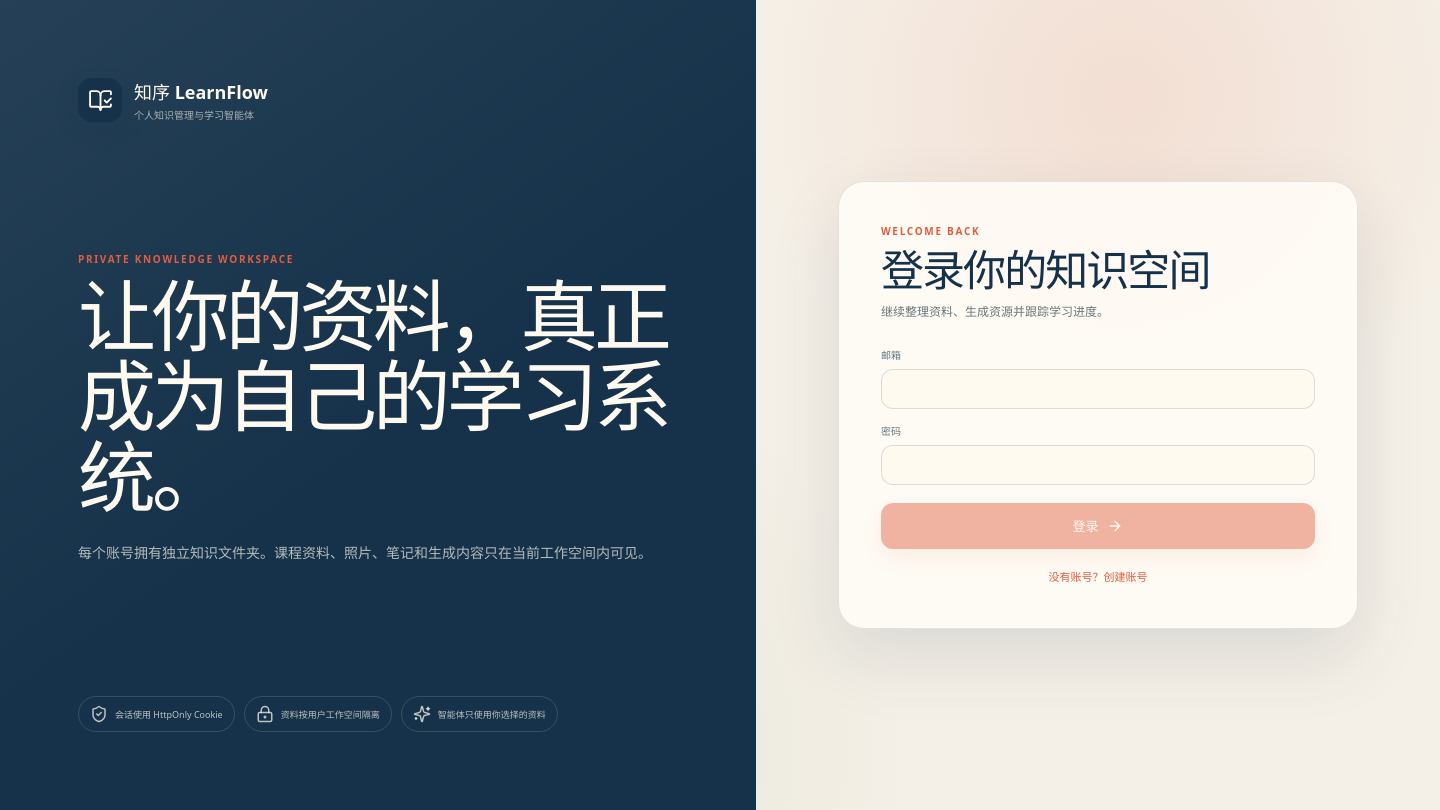
Test: login failure remains on the form with a safe error message
Type "student@example.com" into the field labelled "邮箱". click: coordinates (1098, 389)
box: [881, 369, 1315, 409]
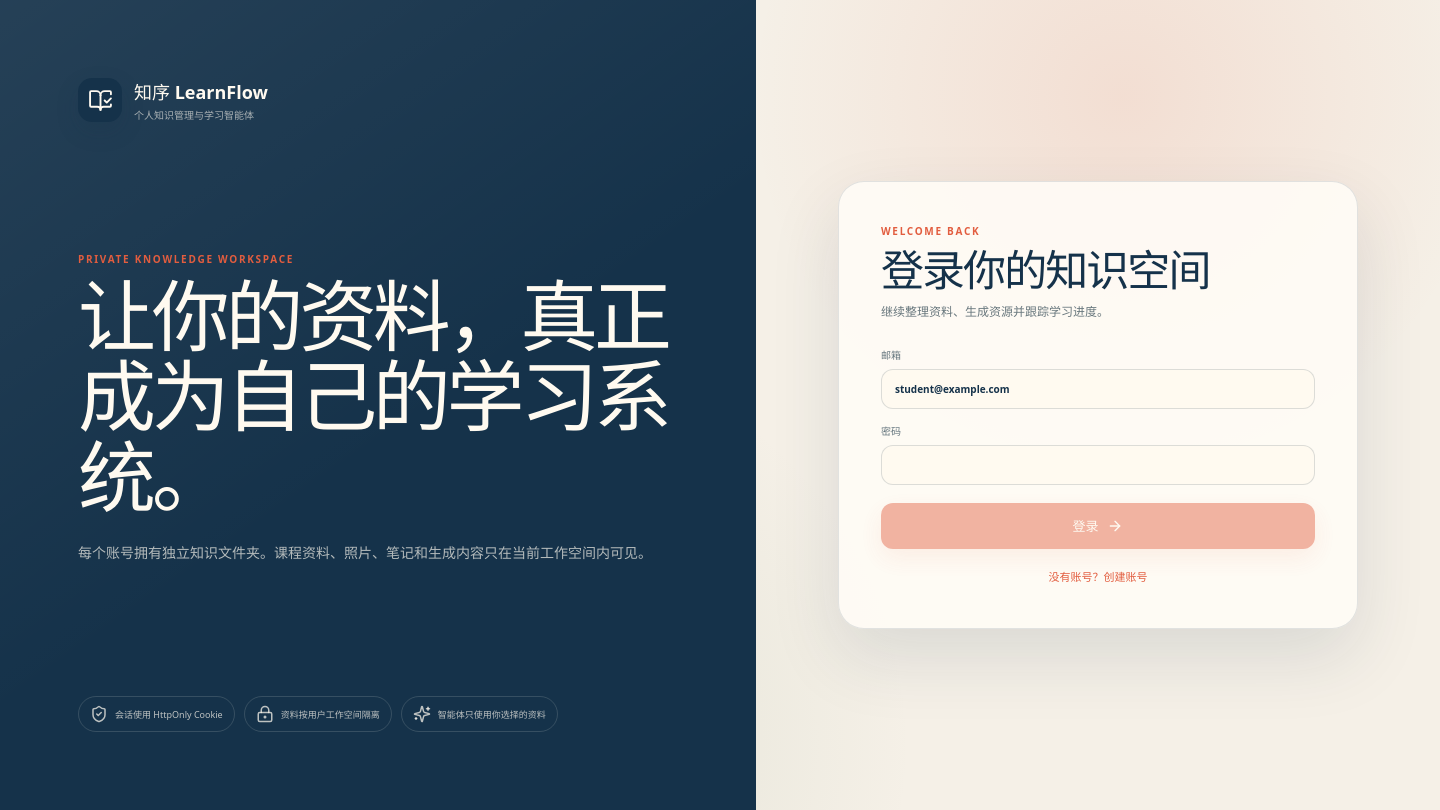
Type "WrongPass123" into the password field labelled "密码". click: coordinates (1098, 465)
box: [881, 445, 1315, 485]
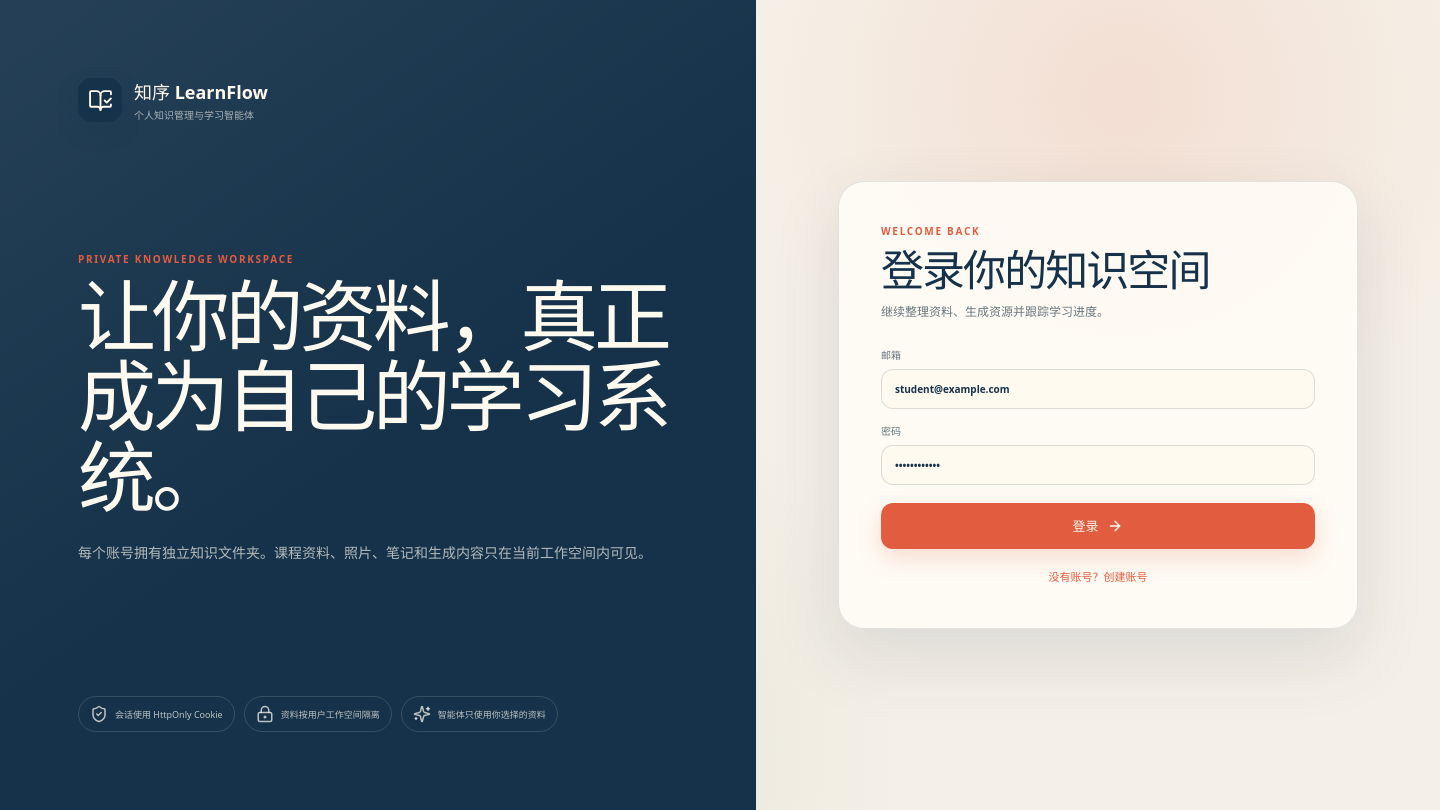
Click the button "登录". click: coordinates (1098, 526)
box: [881, 503, 1315, 549]
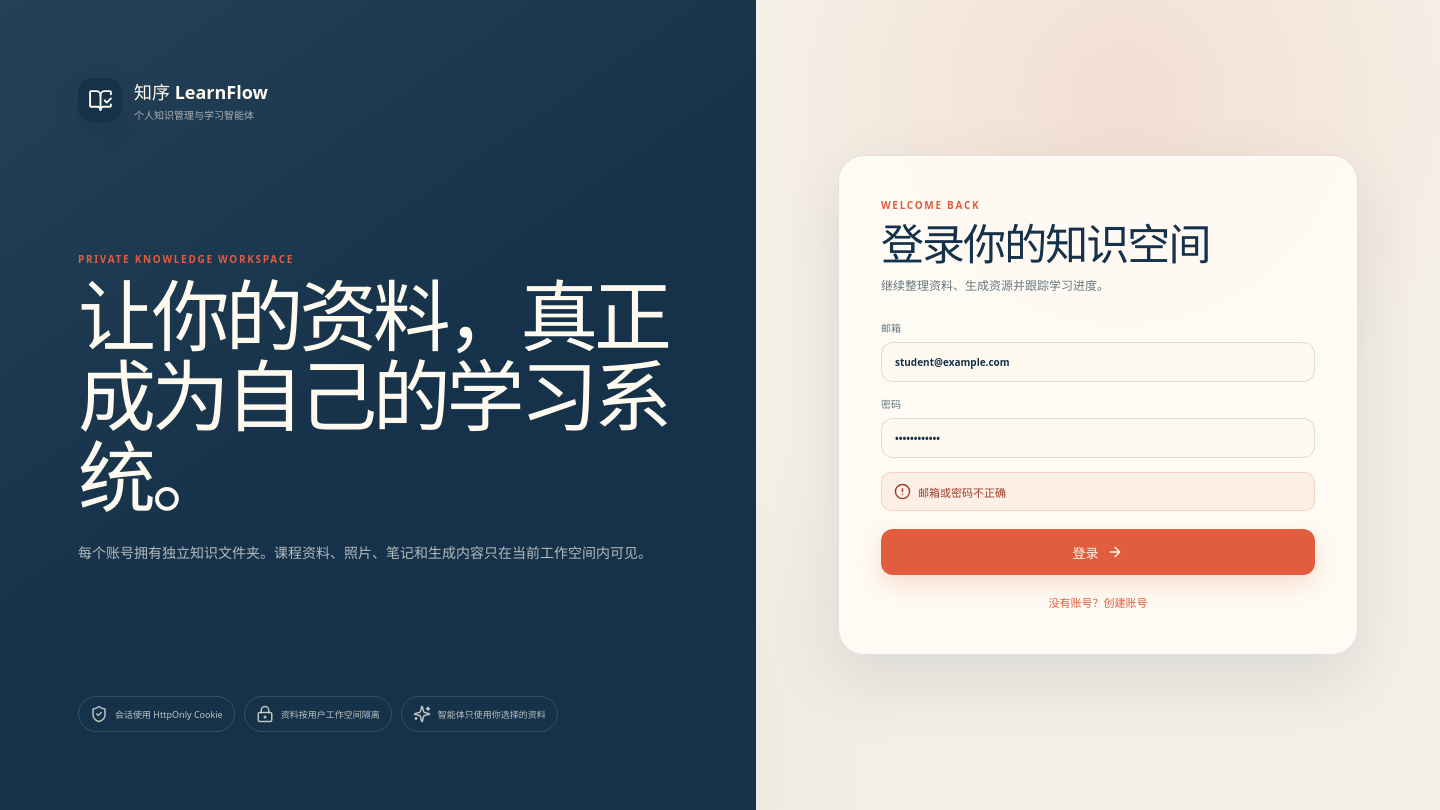
Now the message reads "邮箱或密码不正确", box [918, 485, 1006, 500]
